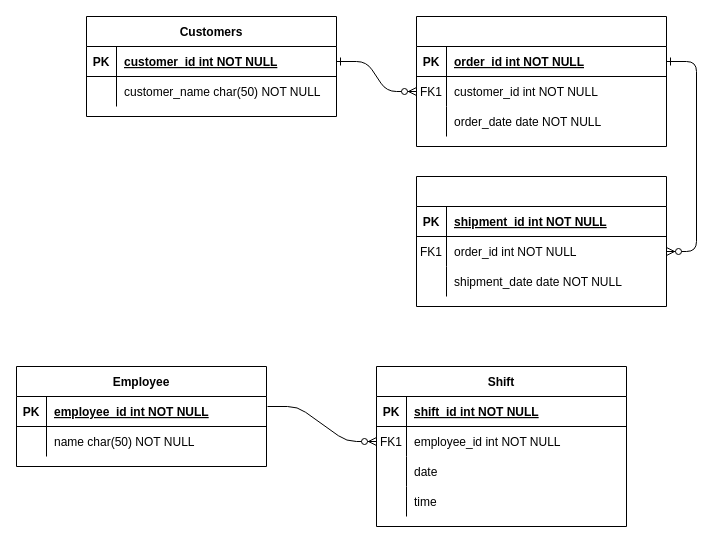
Image size: 713x543. Some labels were removed from this diagram. The shapes that lost their labels are listed below. From the top down, each one's box as (x1, y1, x2, y2) in pixels, then its label:
(416, 16, 666, 146): Orders
(416, 176, 666, 306): Shipments
